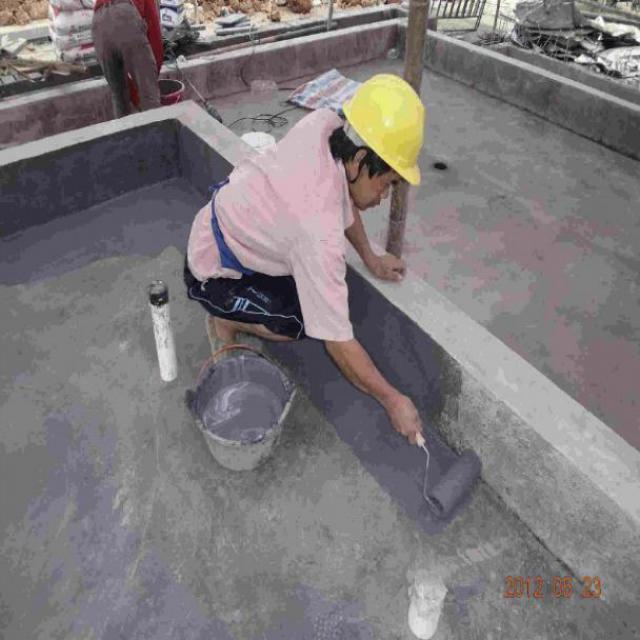helmet: (329, 48, 428, 216)
